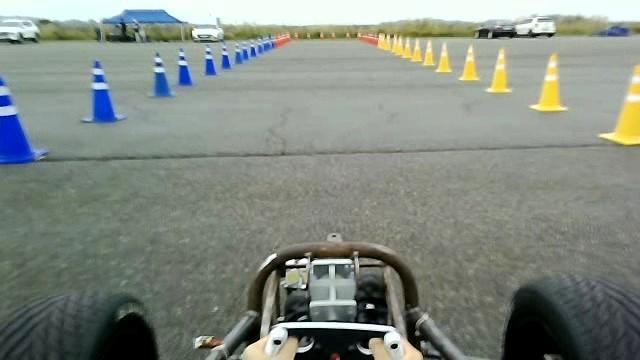blue cone: (0, 76, 48, 164), (81, 58, 128, 122), (147, 51, 176, 98), (176, 47, 193, 86), (202, 43, 217, 76), (220, 42, 231, 70)
yellow cone: (597, 64, 639, 146), (528, 53, 568, 112), (485, 47, 512, 93), (458, 43, 480, 81), (434, 41, 452, 73), (422, 40, 436, 66), (410, 36, 422, 62)
